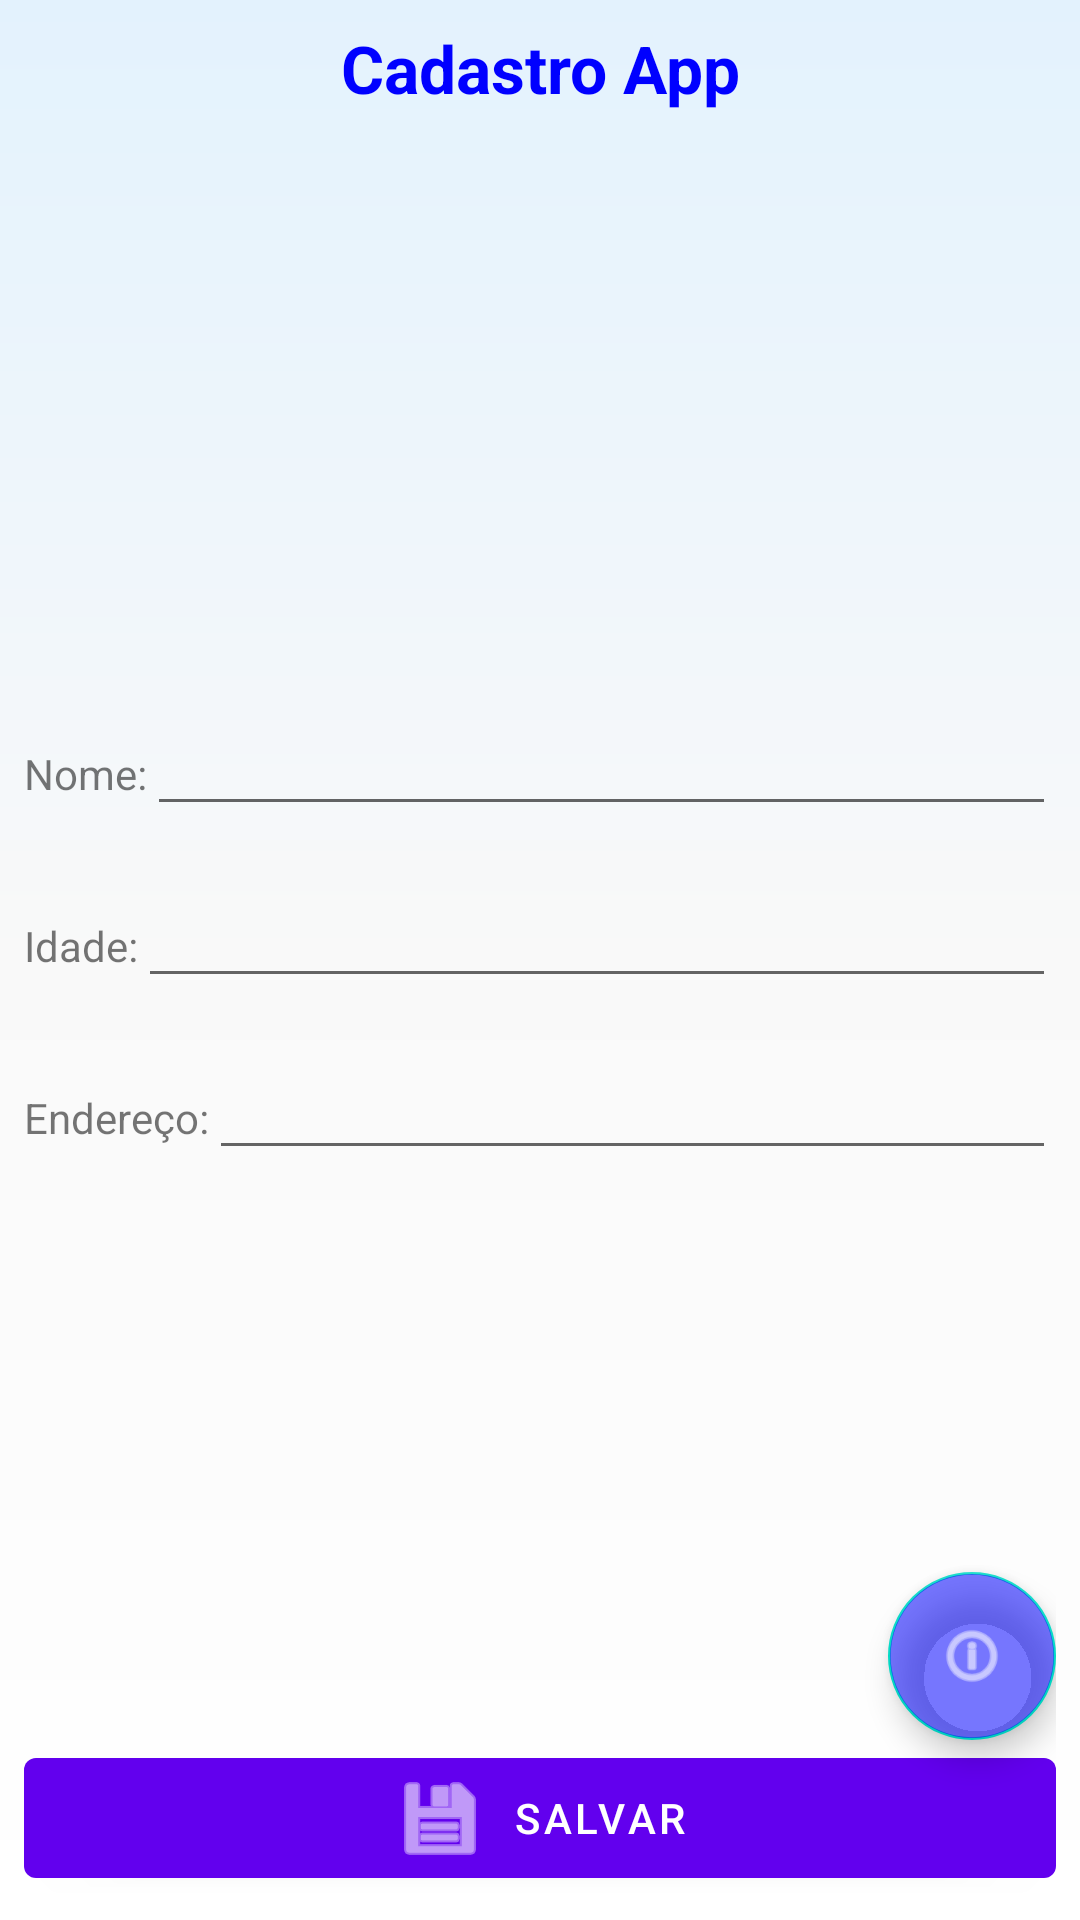

Where icons sit on this 1080*1920 app screen, as (x1, y1, x2, y2):
Sobre: (888, 1572, 1056, 1740)
